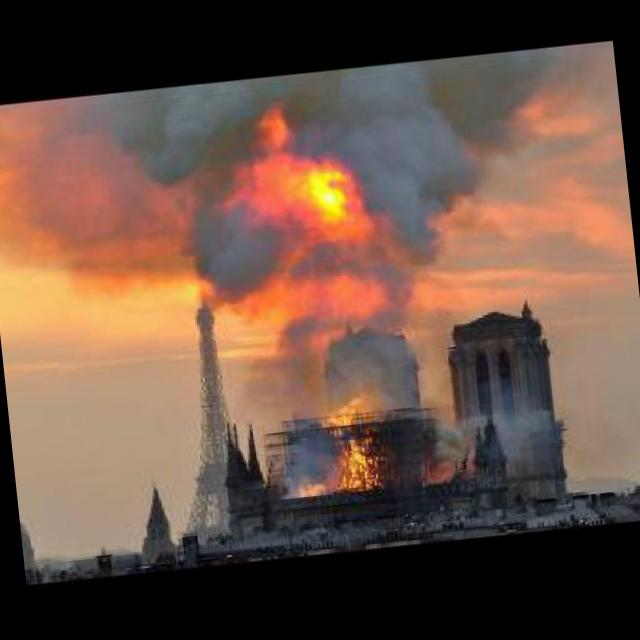fire: (328, 369, 393, 504), (286, 469, 328, 507)
smoke: (103, 48, 548, 339), (412, 390, 555, 482), (262, 314, 340, 472)
